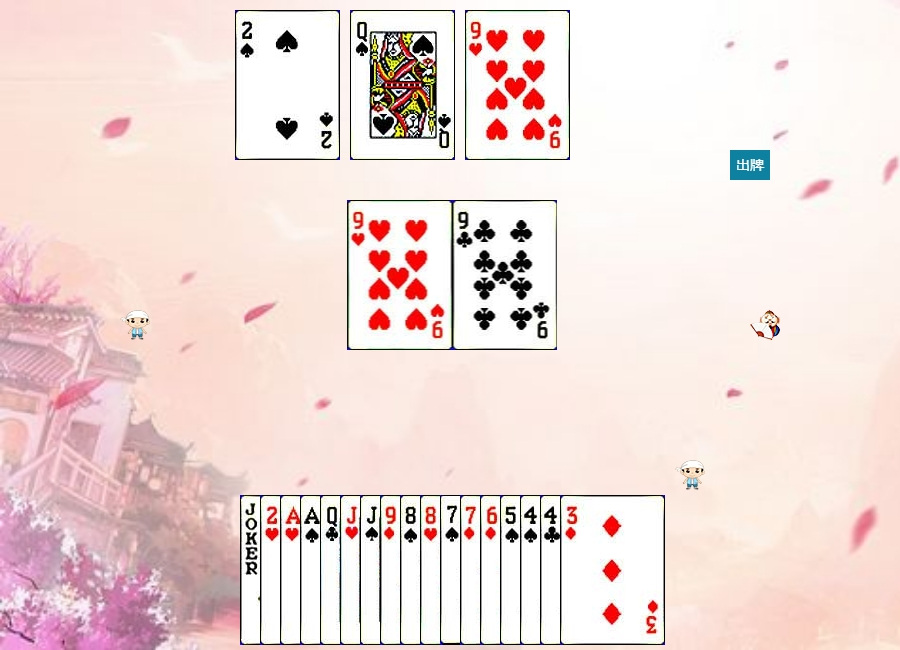11~3: (340, 495, 445, 645)
11~4: (360, 495, 465, 645)
12~2: (320, 495, 425, 645)
12~4: (350, 10, 455, 160)
14~3: (280, 495, 385, 645)
14~4: (300, 495, 405, 645)
15~3: (260, 495, 365, 645)
15~4: (235, 10, 340, 160)
17~3: (240, 495, 345, 645)
3~1: (560, 495, 665, 645)
4~2: (540, 495, 645, 645)
4~4: (520, 495, 625, 645)
5~4: (500, 495, 605, 645)
6~1: (480, 495, 585, 645)
7~1: (460, 495, 565, 645)
7~4: (440, 495, 545, 645)
8~3: (420, 495, 525, 645)
8~4: (400, 495, 505, 645)
9~1: (380, 495, 485, 645)
9~2: (453, 200, 558, 350)
9~3: (465, 10, 570, 160), (348, 200, 453, 350)
